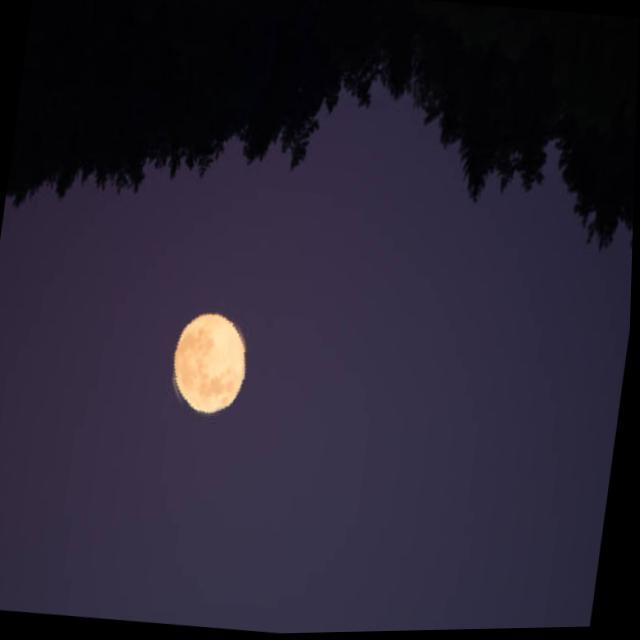moon: (157, 302, 258, 428)
